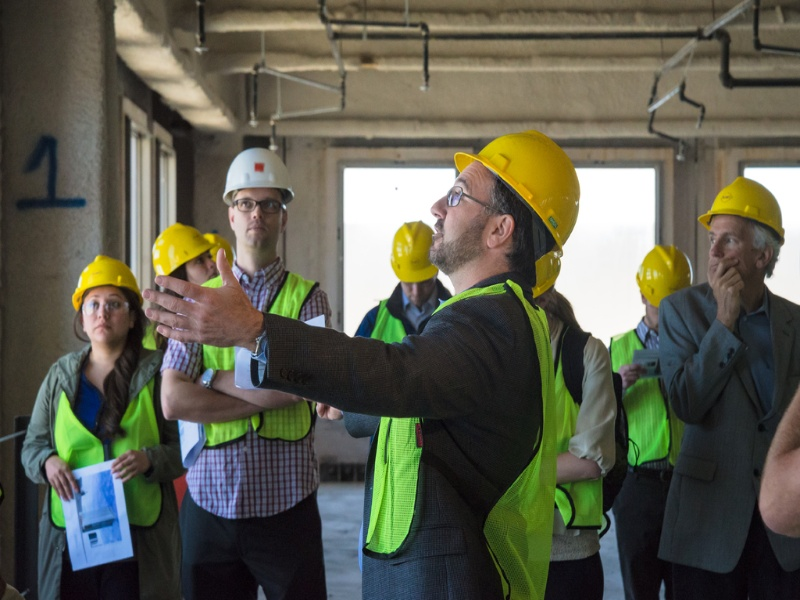Baret: (453, 130, 581, 240), (695, 176, 785, 233), (72, 254, 143, 303), (221, 147, 293, 194), (151, 224, 213, 276), (391, 220, 439, 281)
